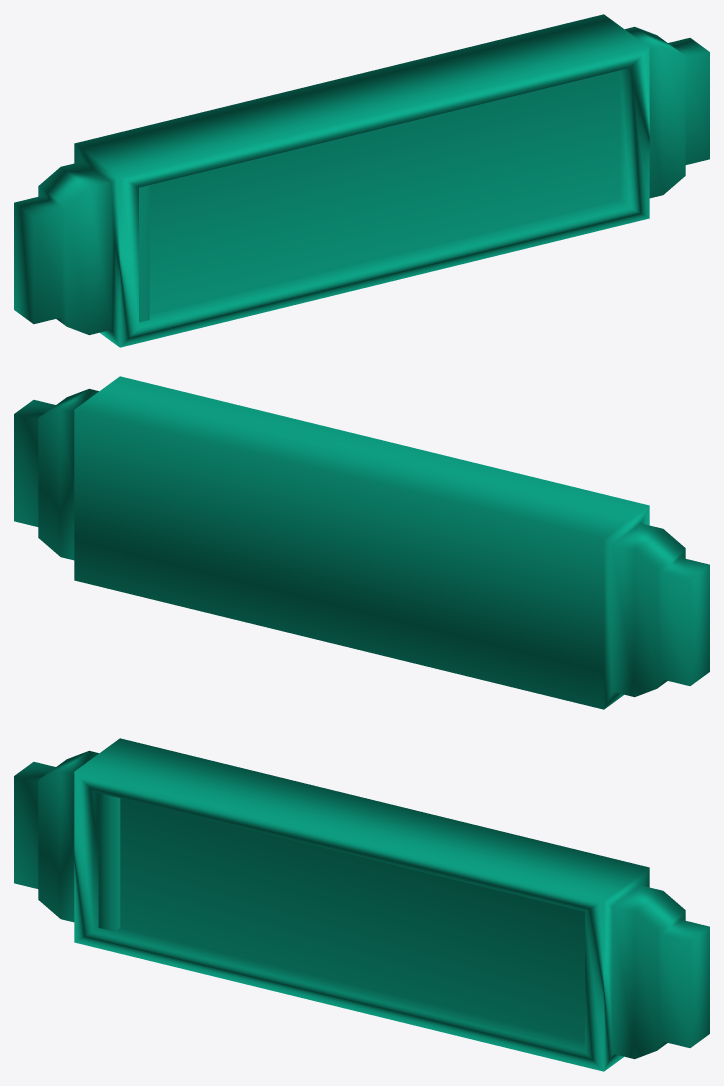
The model's file is button_2.fbx.
The picture shows the model from 3 angles, top to bottom: view 1: azimuth 30°, elevation 25°; view 2: azimuth 150°, elevation 25°; view 3: azimuth 330°, elevation 25°; orthographic projection.
Parts seen in each view (by area): view 1: b2_Low, paal_b2_Low; view 2: b2_Low; view 3: b2_Low, paal_b2_Low.
Boxes of the visible parts, box(x1,y1,x2,y2) form: b2_Low: box(14, 14, 709, 347); paal_b2_Low: box(139, 185, 149, 322); b2_Low: box(14, 376, 709, 709); b2_Low: box(14, 738, 709, 1071); paal_b2_Low: box(98, 793, 120, 931).
Bounding box in the file's own units: 627 × 151 × 73.28.
